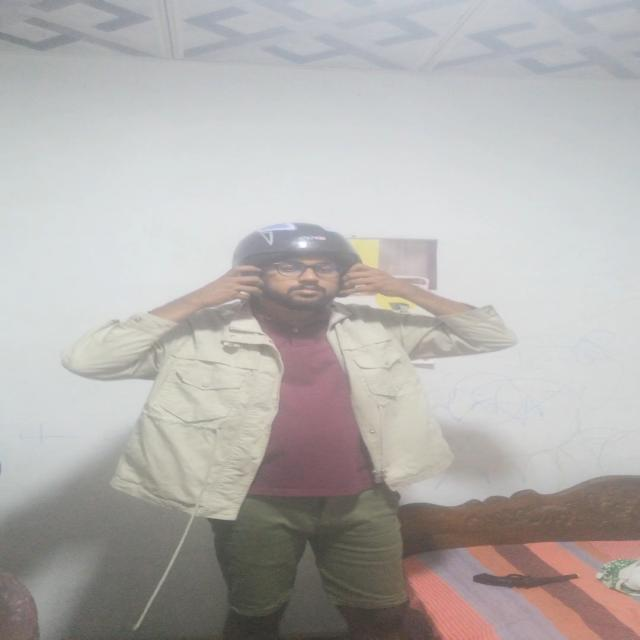Helmet_Wearer: (208, 215, 386, 316)
Jacket_Wearer: (77, 302, 530, 503)
Person: (79, 216, 518, 640)
